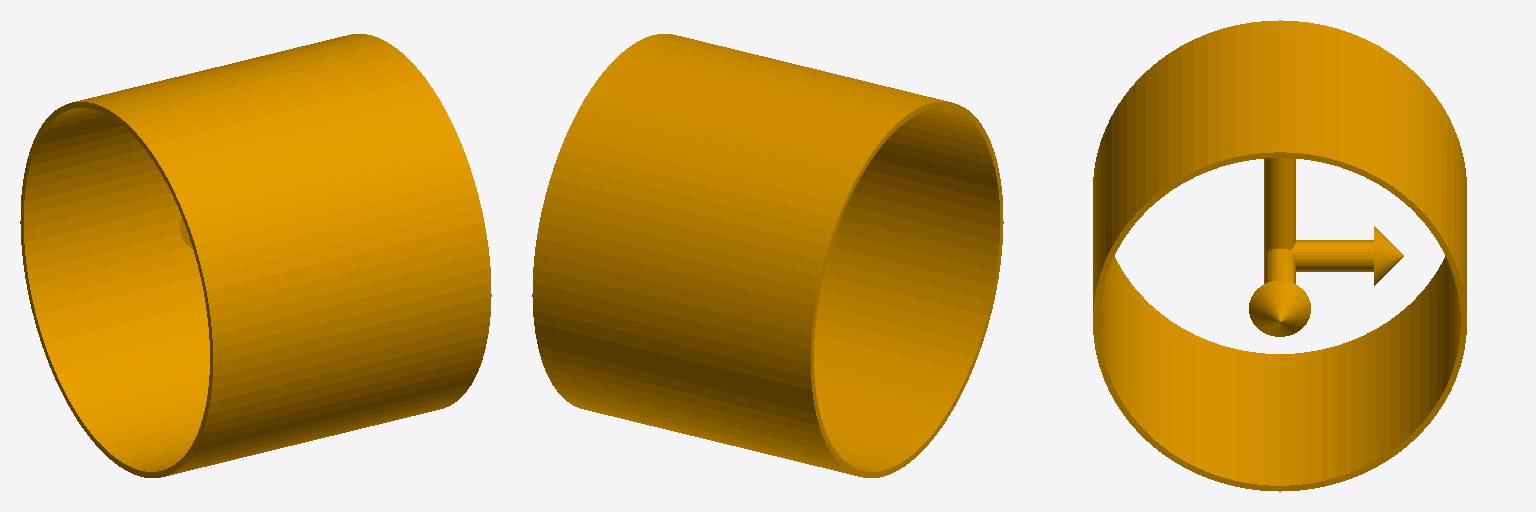
robot.urdf — cylinder:
<?xml version="1.0" ?>
<robot xmlns:xacro="http://www.ros.org/wiki/xacro" name="cylinder">

    <link name="cylinder">
        <inertial>
            <origin xyz="0.0 0.0 0.0" rpy="0 0 0"/>
            <mass value="2.5"/>
            <inertia ixx="0.163" ixy="0.0" ixz="0.0" iyy="0.221" iyz="0.0" izz="0.163"/>
        </inertial>

        <visual>
            <origin xyz="0.0 0.0 0.0" rpy="0.0 0.0 0.0"/>
            <geometry>
                <mesh filename="./meshes/cylinder_aligned/cylinder_aligned.obj" scale="1 1 1"/>
            </geometry>
        </visual>

        <collision>
            <origin xyz="0.0 0.0 0.0" rpy="0.0 0.0 -1.57"/>
            <geometry>
                <mesh filename="./meshes/cylinder_collision/cylinder_collision.obj" scale="1 1 1"/>
            </geometry>
        </collision>
    </link>
</robot>

--- Facts derived from the render (not from the file) ---
Views: 3 orthographic renders of the robot side by side, from view 1: azimuth 30°, elevation 25°; view 2: azimuth 150°, elevation 25°; view 3: azimuth 270°, elevation 25°.
Model cylinder with 1 links and 0 joints (none), rooted at cylinder, posed all joints at 0.
Visible links, largest first — view 1: cylinder; view 2: cylinder; view 3: cylinder.
Link boxes in pixels (left/top/right/bottom): cylinder: left=20, top=34, right=491, bottom=477; cylinder: left=532, top=34, right=1003, bottom=477; cylinder: left=1093, top=20, right=1466, bottom=491.
Bounding box of the posed robot: 0.5 × 0.5999 × 0.6 m (x, y, z).
Meshes: 1 distinct files referenced, 1 mesh visuals loaded (1 OBJ).
